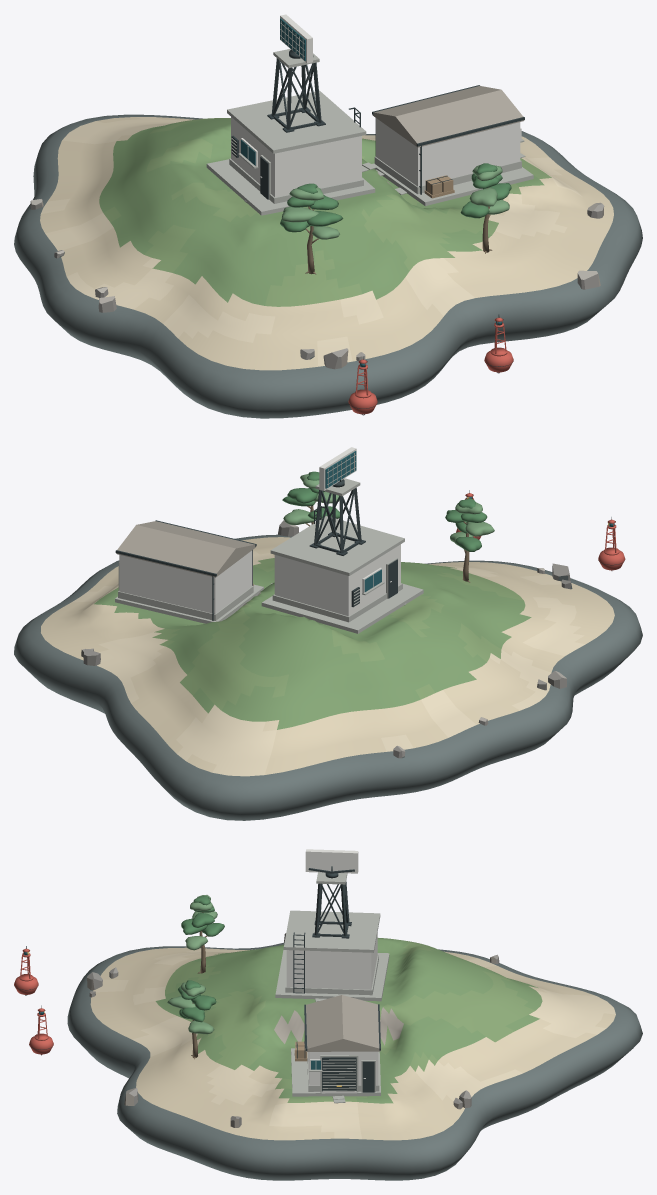
Rendered from ENV_RadarOutpost.fbx.
3 renders of one model, top to bottom at view 1: azimuth 30°, elevation 25°; view 2: azimuth 150°, elevation 25°; view 3: azimuth 270°, elevation 25°, orthographic. The views are drawn at different scales.
Visible parts, largest first — view 1: TerrainShell, ENV_RadarStation_0_Visual, ENV_SupplyDepot_1_Visual, ENV_CoastalPine_2_Visual, ENV_CoastalPine_3_Visual, Decor_Visual, SearchArrayHead_Visual, ENV_NavigationBuoy_4_Visual, ENV_NavigationBuoy_5_Visual; view 2: TerrainShell, ENV_RadarStation_0_Visual, ENV_SupplyDepot_1_Visual, ENV_CoastalPine_2_Visual, Decor_Visual, ENV_CoastalPine_3_Visual, SearchArrayHead_Visual, ENV_NavigationBuoy_4_Visual; view 3: TerrainShell, ENV_RadarStation_0_Visual, ENV_SupplyDepot_1_Visual, ENV_CoastalPine_3_Visual, ENV_CoastalPine_2_Visual, SearchArrayHead_Visual, Decor_Visual, ENV_NavigationBuoy_4_Visual, ENV_NavigationBuoy_5_Visual.
Part boxes in pixels (bbox=[...]): TerrainShell: bbox=[14, 114, 642, 418]; ENV_RadarStation_0_Visual: bbox=[206, 49, 375, 215]; ENV_SupplyDepot_1_Visual: bbox=[371, 85, 533, 206]; ENV_CoastalPine_2_Visual: bbox=[280, 183, 343, 274]; ENV_CoastalPine_3_Visual: bbox=[460, 163, 511, 253]; Decor_Visual: bbox=[30, 153, 604, 369]; SearchArrayHead_Visual: bbox=[280, 14, 313, 63]; ENV_NavigationBuoy_4_Visual: bbox=[348, 356, 377, 415]; ENV_NavigationBuoy_5_Visual: bbox=[484, 314, 513, 373]; TerrainShell: bbox=[14, 534, 642, 820]; ENV_RadarStation_0_Visual: bbox=[261, 478, 423, 633]; ENV_SupplyDepot_1_Visual: bbox=[115, 520, 263, 623]; ENV_CoastalPine_2_Visual: bbox=[445, 498, 494, 582]; Decor_Visual: bbox=[81, 520, 572, 758]; ENV_CoastalPine_3_Visual: bbox=[282, 471, 339, 526]; SearchArrayHead_Visual: bbox=[319, 447, 356, 490]; ENV_NavigationBuoy_4_Visual: bbox=[598, 517, 625, 570]; TerrainShell: bbox=[67, 938, 642, 1180]; ENV_RadarStation_0_Visual: bbox=[275, 872, 389, 1001]; ENV_SupplyDepot_1_Visual: bbox=[291, 995, 380, 1096]; ENV_CoastalPine_3_Visual: bbox=[167, 980, 216, 1059]; ENV_CoastalPine_2_Visual: bbox=[181, 895, 224, 973]; SearchArrayHead_Visual: bbox=[305, 849, 358, 873]; Decor_Visual: bbox=[87, 933, 499, 1127]; ENV_NavigationBuoy_4_Visual: bbox=[14, 946, 38, 995]; ENV_NavigationBuoy_5_Visual: bbox=[29, 1005, 53, 1055].
Size of the model in its own units: 2964 by 1336 by 3549.
